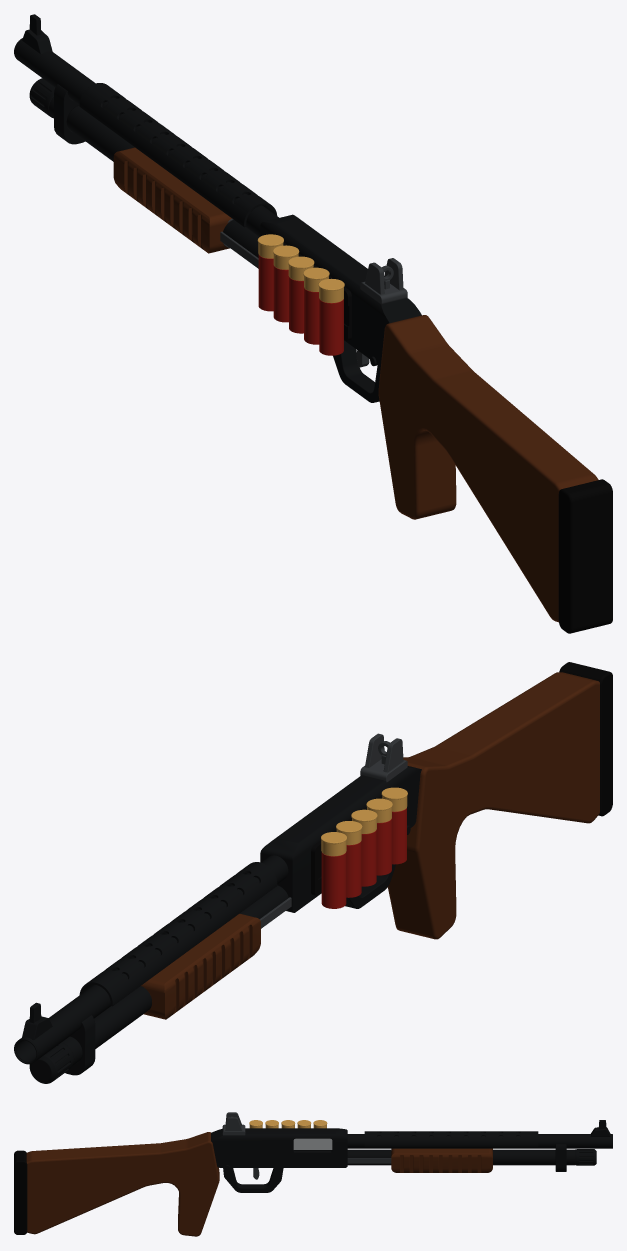
Rendered from requiem.glb.
3 views of the same model, one above another, from view 1: azimuth 30°, elevation 25°; view 2: azimuth 150°, elevation 25°; view 3: azimuth 270°, elevation 25° (orthographic). The views are drawn at different scales.
Visible parts, largest first — view 1: stock, barrel, buttpad, receiver, pump_mesh, saddle_hulls, saddle_heads, rear_sight; view 2: stock, barrel, receiver, pump_mesh, saddle_hulls, saddle_heads, buttpad, rear_sight, saddle; view 3: stock, barrel, receiver, pump_mesh, buttpad, saddle_heads, bolt_mesh, rear_sight, action_bars.
Part boxes in pixels (bbox=[...]): stock: bbox=[378, 315, 598, 622]; barrel: bbox=[14, 14, 278, 257]; buttpad: bbox=[558, 479, 612, 633]; receiver: bbox=[260, 214, 421, 402]; pump_mesh: bbox=[113, 147, 231, 253]; saddle_hulls: bbox=[258, 255, 343, 355]; saddle_heads: bbox=[257, 234, 344, 303]; rear_sight: bbox=[360, 258, 407, 304]; stock: bbox=[388, 672, 599, 939]; barrel: bbox=[14, 855, 288, 1083]; receiver: bbox=[260, 766, 421, 912]; pump_mesh: bbox=[141, 913, 260, 1019]; saddle_hulls: bbox=[321, 808, 406, 908]; saddle_heads: bbox=[321, 787, 407, 856]; buttpad: bbox=[559, 662, 612, 816]; rear_sight: bbox=[360, 733, 407, 782]; saddle: bbox=[311, 795, 382, 895]; stock: bbox=[26, 1132, 219, 1236]; barrel: bbox=[347, 1120, 612, 1171]; receiver: bbox=[211, 1128, 347, 1192]; pump_mesh: bbox=[391, 1148, 492, 1172]; buttpad: bbox=[14, 1150, 27, 1234]; saddle_heads: bbox=[249, 1120, 327, 1128]; bolt_mesh: bbox=[293, 1138, 332, 1149]; rear_sight: bbox=[222, 1112, 245, 1135]; action_bars: bbox=[347, 1149, 391, 1163].
Size of the model in its own units: 0.0627 by 0.1922 by 0.8955.
